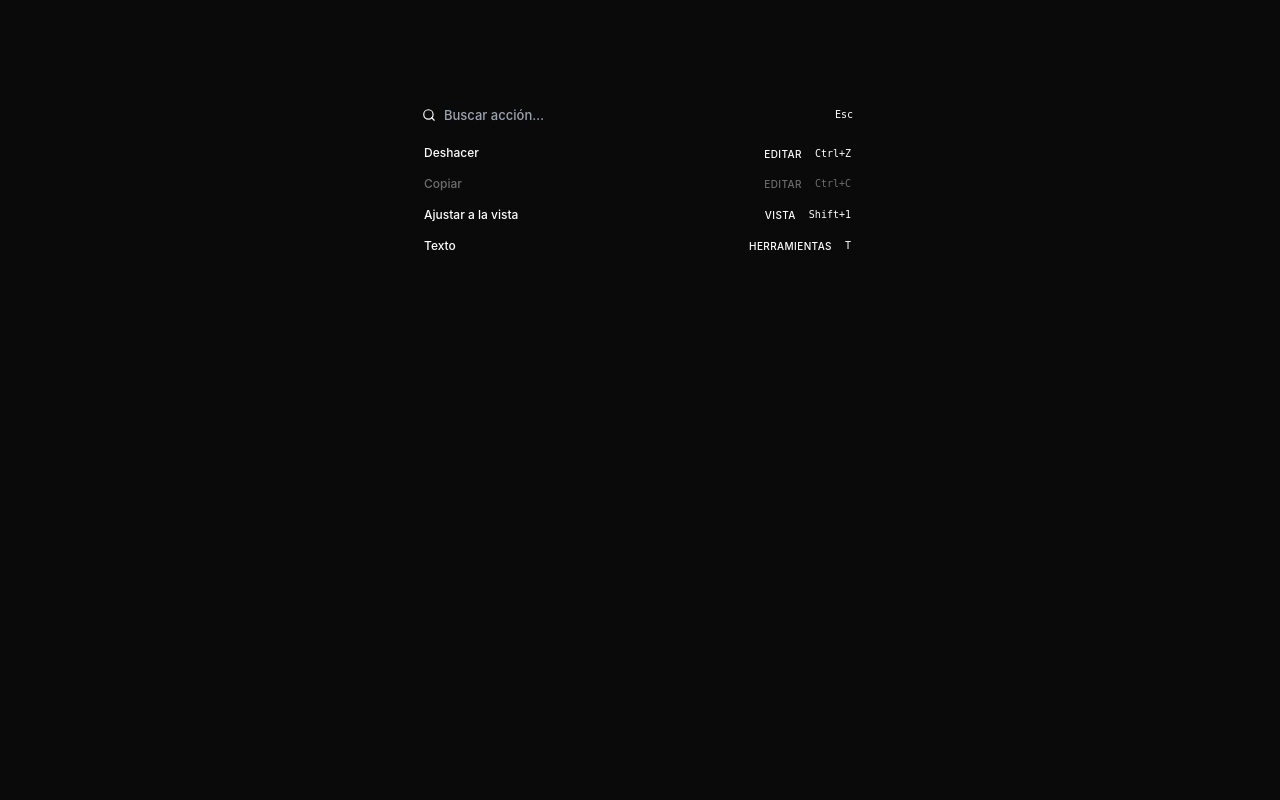
Test: CommandPalette › filters by label and keywords
The width and height of the screenshot is (1280, 800).
Type "letra" into the field labelled "Buscar acción".
click(633, 115); type("letra")  # box [444, 106, 822, 124]
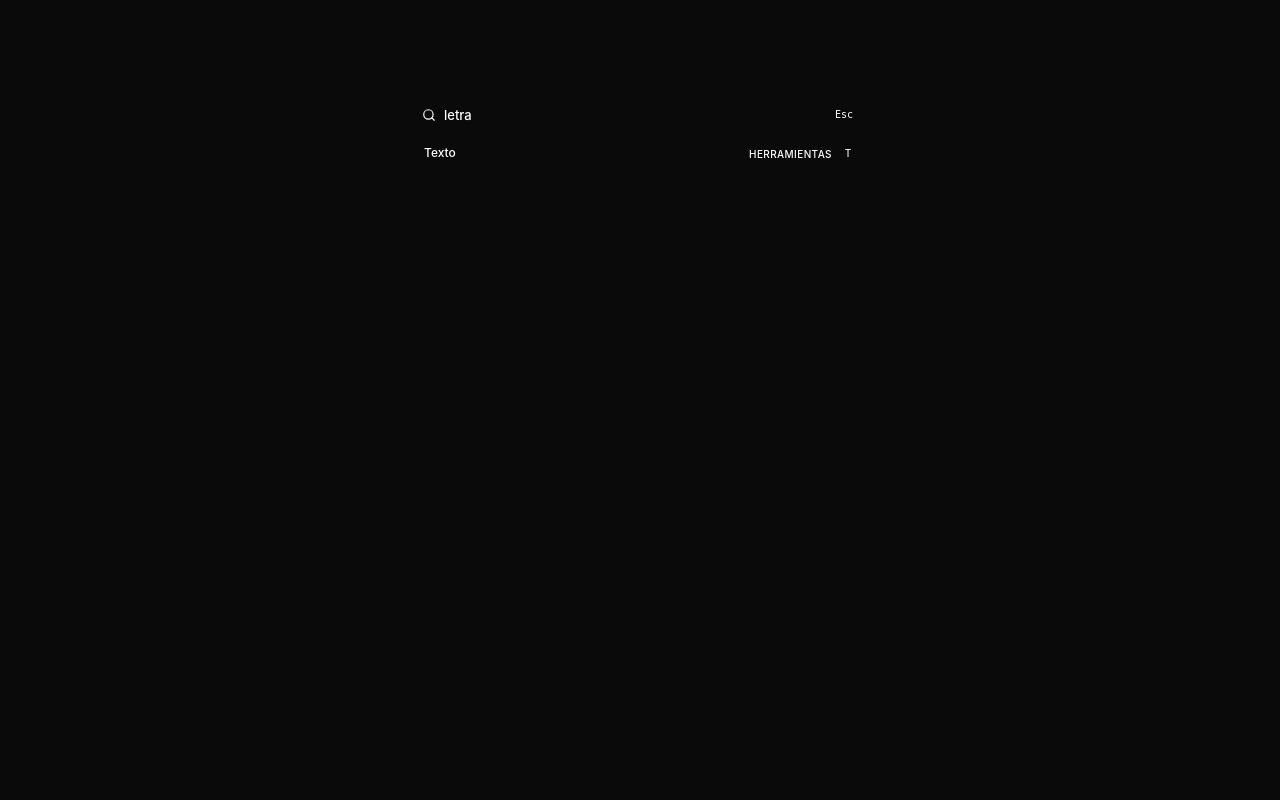
Expected: the option "Texto Herramientas T" is shown, [414, 138, 866, 169]
Expected: the option "Deshacer" is gone
